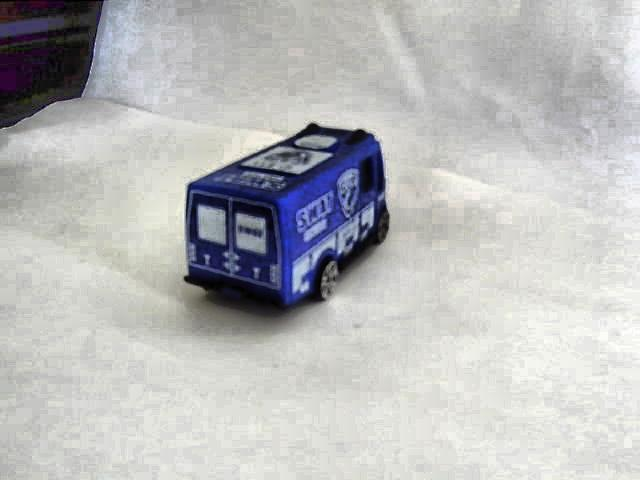police car: (185, 105, 393, 322)
